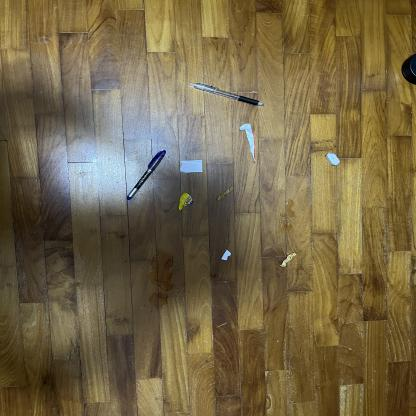dirty: (239, 124, 256, 162), (279, 252, 298, 268), (180, 160, 202, 173), (179, 192, 194, 211), (216, 187, 234, 201), (221, 249, 231, 260)
liquid: (150, 249, 174, 290), (149, 291, 168, 309), (280, 200, 298, 217), (280, 220, 292, 233), (188, 254, 197, 260), (176, 287, 182, 294), (210, 272, 217, 278), (176, 269, 180, 272)
mark: (217, 322, 228, 328)
